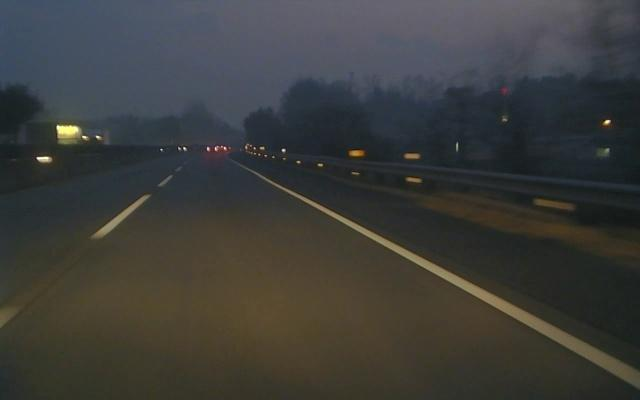lane: (246, 168, 640, 390), (89, 174, 173, 241)
